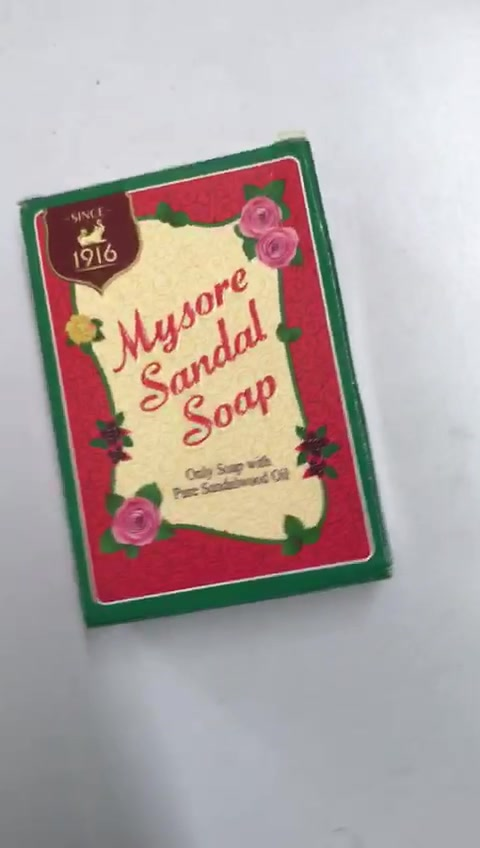mysoresandalsoap: (2, 139, 395, 633)
